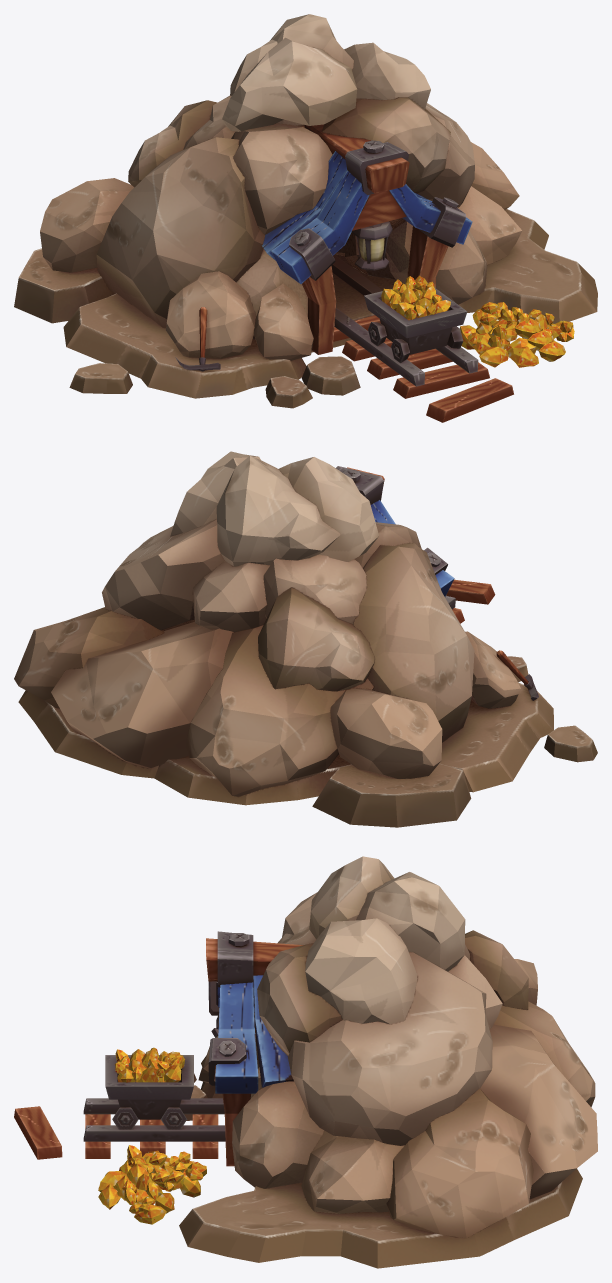
Rendered from Gold_Mine.fbx.
3 views of the same model, one above another, from view 1: azimuth 30°, elevation 25°; view 2: azimuth 150°, elevation 25°; view 3: azimuth 270°, elevation 25° (orthographic). The views are drawn at different scales.
Parts seen in each view (by area): view 1: Gold_Mine; view 2: Gold_Mine; view 3: Gold_Mine.
Part boxes in pixels (<box>): Gold_Mine: <box>14,14,597,422</box>; Gold_Mine: <box>14,451,597,827</box>; Gold_Mine: <box>14,856,597,1268</box>.
Size of the model in its own units: 15.01 by 7.5 by 14.03.
